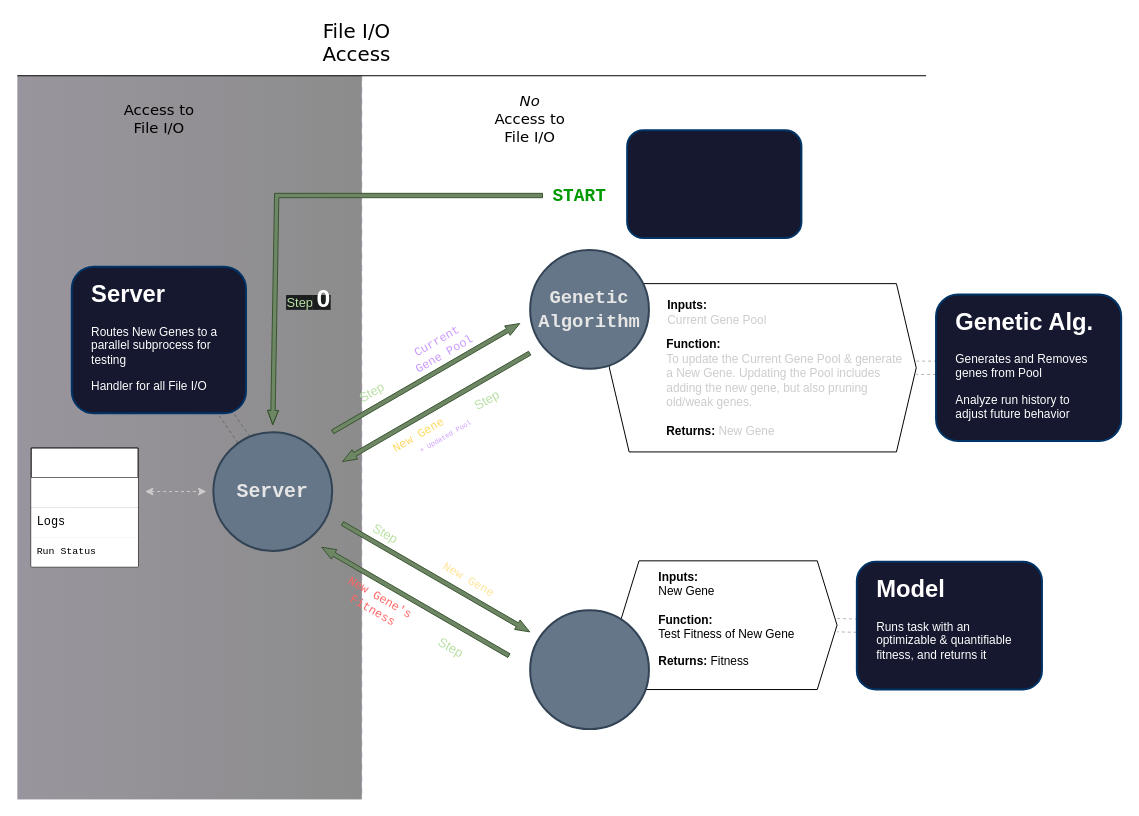
Some shapes in this 1139 by 816 pixel diagram are drawn without their labels. Here are the shapes that lost their labels. From the top down, the box of each, then its label:
(626, 129, 802, 239): Starter File Create file to initialize run by starting Server
(30, 447, 138, 567): File System
(31, 477, 138, 507): Gene Pool
(529, 609, 649, 730): Model
